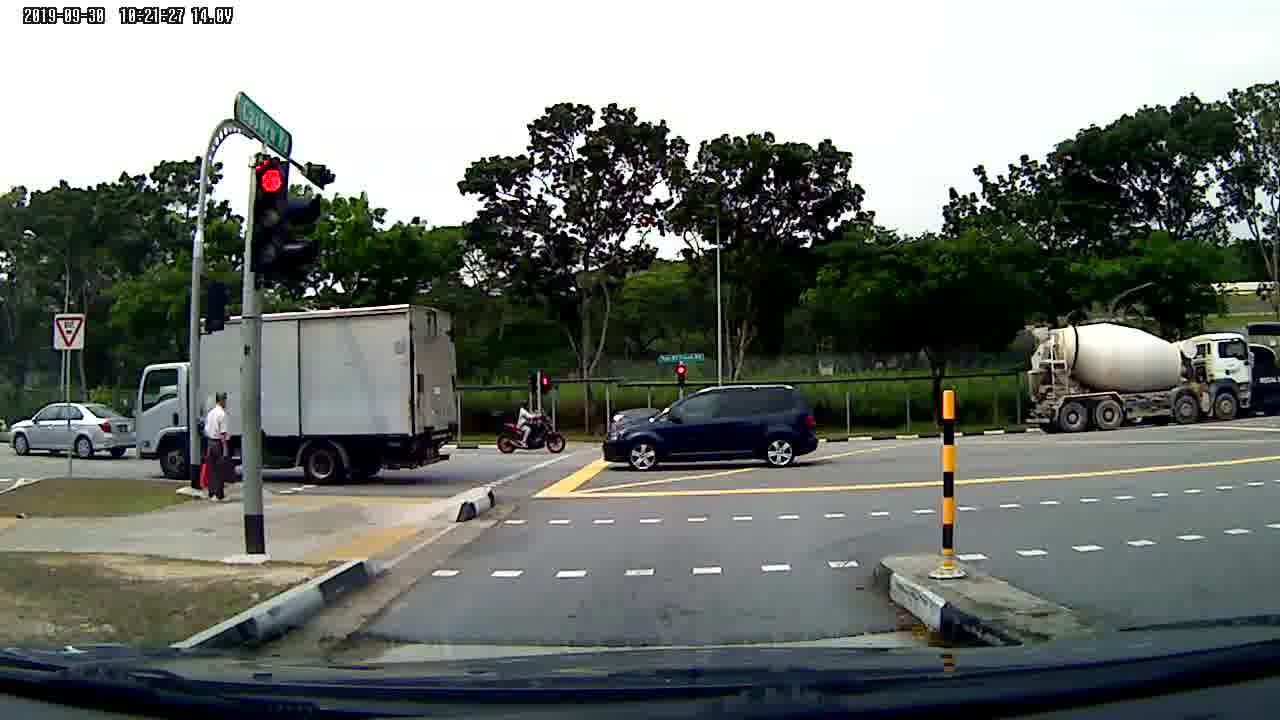car: (603, 385, 820, 470), (12, 398, 133, 460)
